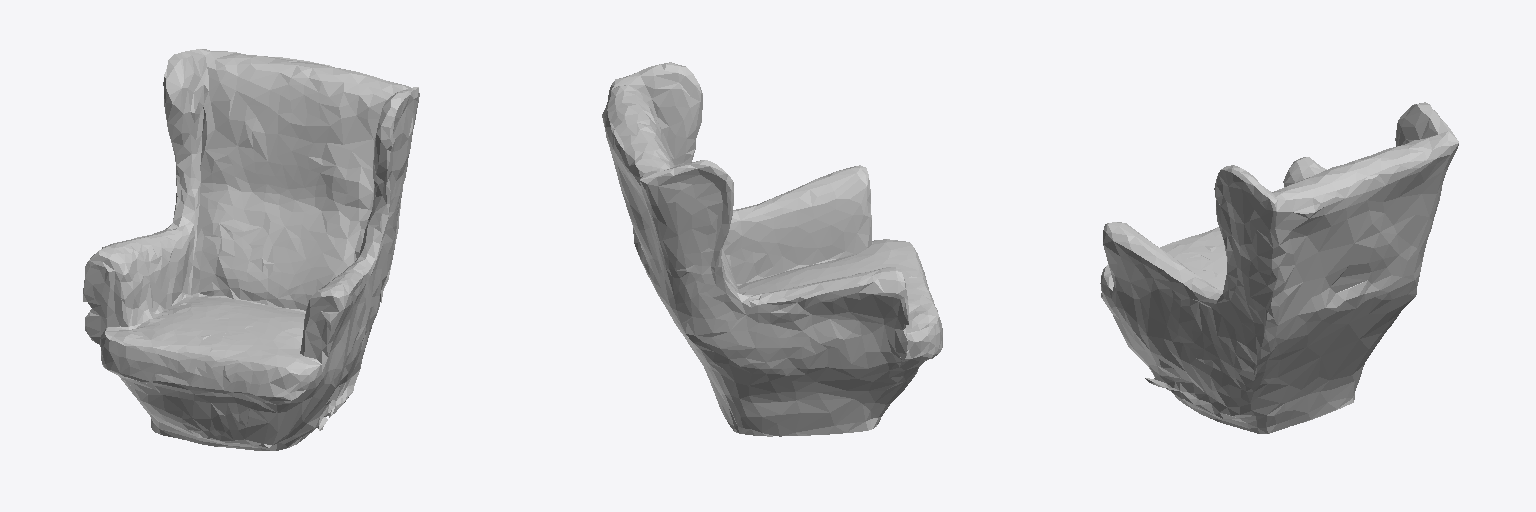
Rendered from ikea sofa(green).obj.
The picture shows the model from 3 angles: view 1: azimuth 30°, elevation 25°; view 2: azimuth 150°, elevation 25°; view 3: azimuth 270°, elevation 25°; orthographic projection.
Parts seen in each view (by area): view 1: mmGroup0; view 2: mmGroup0; view 3: mmGroup0, mmGroup11.
Part boxes in pixels (left/top/right/bottom): mmGroup0: left=83, top=49, right=419, bottom=450; mmGroup0: left=602, top=62, right=942, bottom=436; mmGroup0: left=1100, top=102, right=1458, bottom=433; mmGroup11: left=1216, top=389, right=1255, bottom=422.
Bounding box in the file's own units: 3.32 × 2.92 × 3.21.